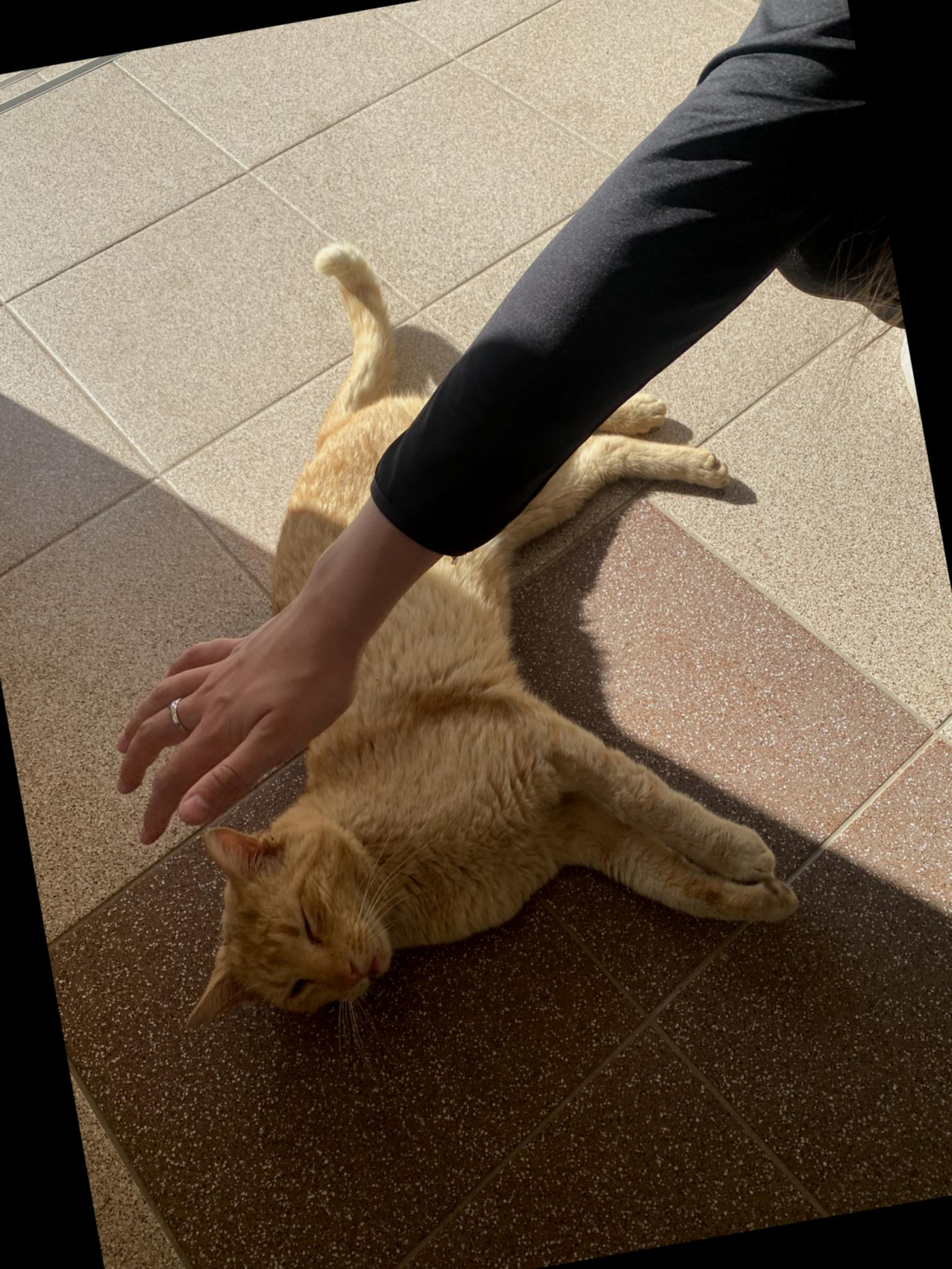macka: (50, 182, 804, 1039)
